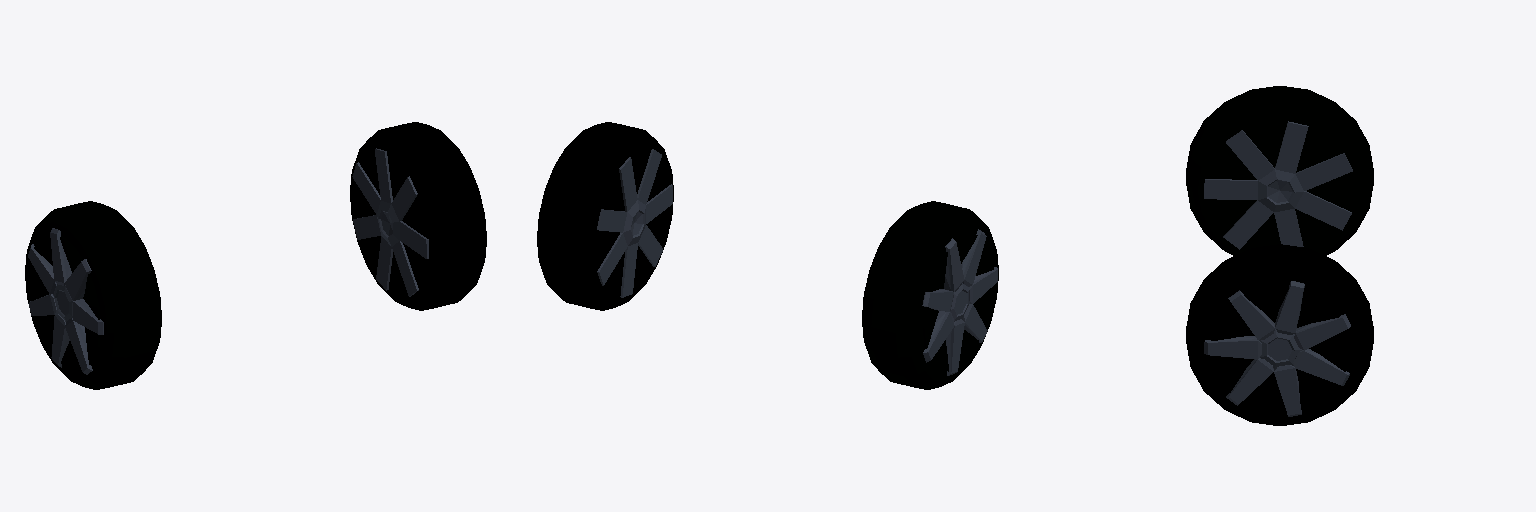
The picture shows the model from 3 angles: view 1: azimuth 30°, elevation 25°; view 2: azimuth 150°, elevation 25°; view 3: azimuth 270°, elevation 25°; orthographic projection.
Parts seen in each view (by area): view 1: Ruedas_Tesla_Cybertruck.002; view 2: Ruedas_Tesla_Cybertruck.002; view 3: Ruedas_Tesla_Cybertruck.002.
Part boxes in pixels (bbox=[...]): Ruedas_Tesla_Cybertruck.002: bbox=[25, 122, 486, 389]; Ruedas_Tesla_Cybertruck.002: bbox=[537, 122, 998, 389]; Ruedas_Tesla_Cybertruck.002: bbox=[1186, 86, 1373, 425].
Bounding box in the file's own units: 5.85 × 2.46 × 2.46.
Materials: 1 (1 with a texture image).